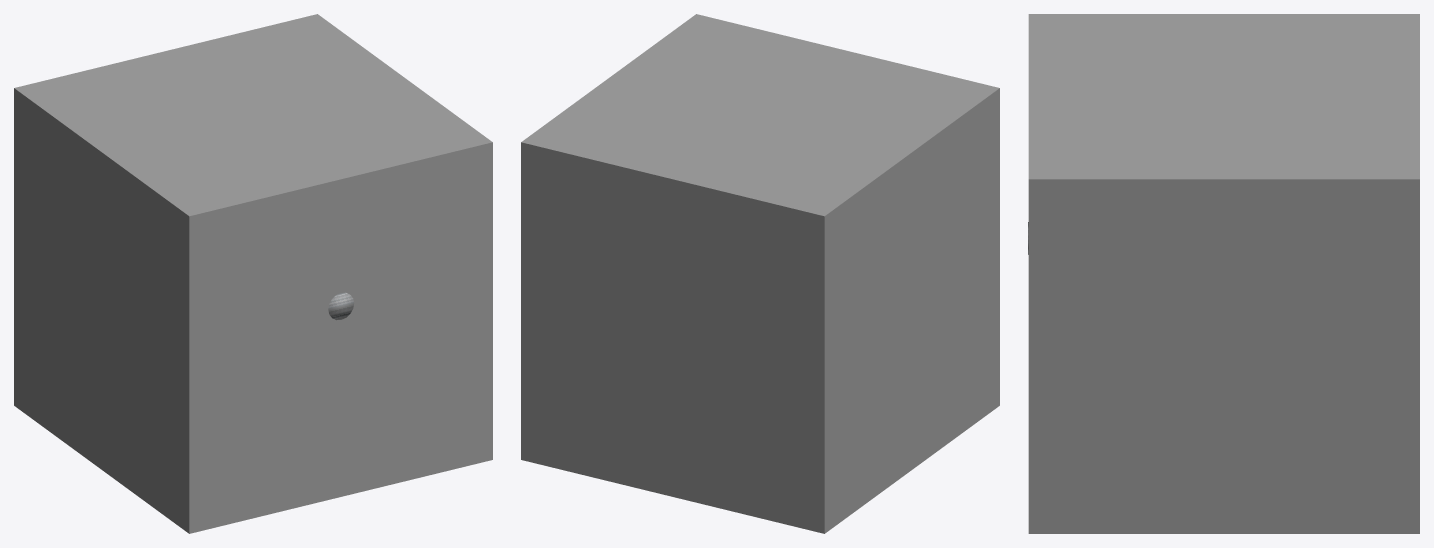
Rendered from Generator.obj.
3 views of the same model, side by side, from view 1: azimuth 30°, elevation 25°; view 2: azimuth 150°, elevation 25°; view 3: azimuth 270°, elevation 25° (orthographic). The views are drawn at different scales.
Visible parts, largest first — view 1: Minecraft_Block_Cube.001, Shaft; view 2: Minecraft_Block_Cube.001; view 3: Minecraft_Block_Cube.001.
Part boxes in pixels (box(x1,y1,x2,y2)): Minecraft_Block_Cube.001: box(14, 14, 492, 533); Shaft: box(328, 292, 354, 320); Minecraft_Block_Cube.001: box(521, 14, 999, 533); Minecraft_Block_Cube.001: box(1028, 14, 1419, 533).
Bounding box in the file's own units: 1 × 1 × 1.
4 materials, 3 textured.
